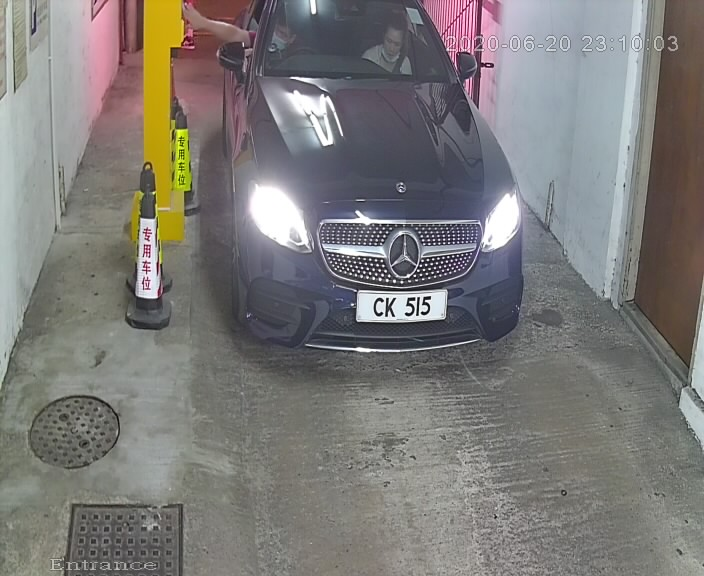privatecar: (177, 1, 542, 403)
